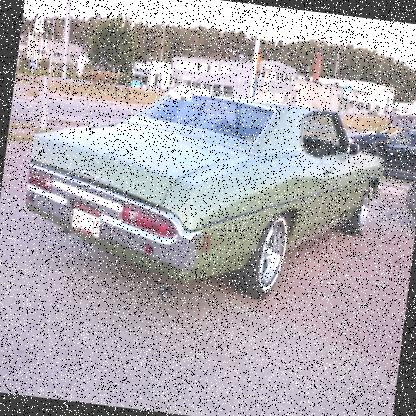Car: (16, 75, 388, 310), (344, 119, 415, 178), (400, 160, 415, 227), (166, 83, 192, 102)
